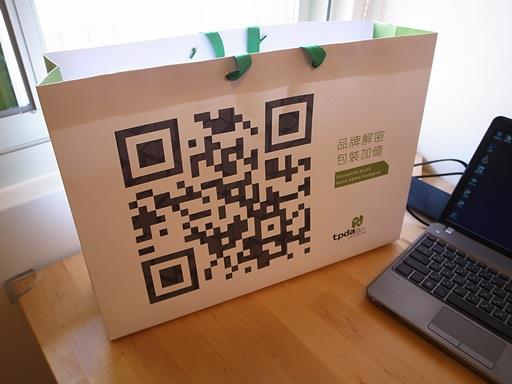QRCode: (114, 93, 315, 306)
